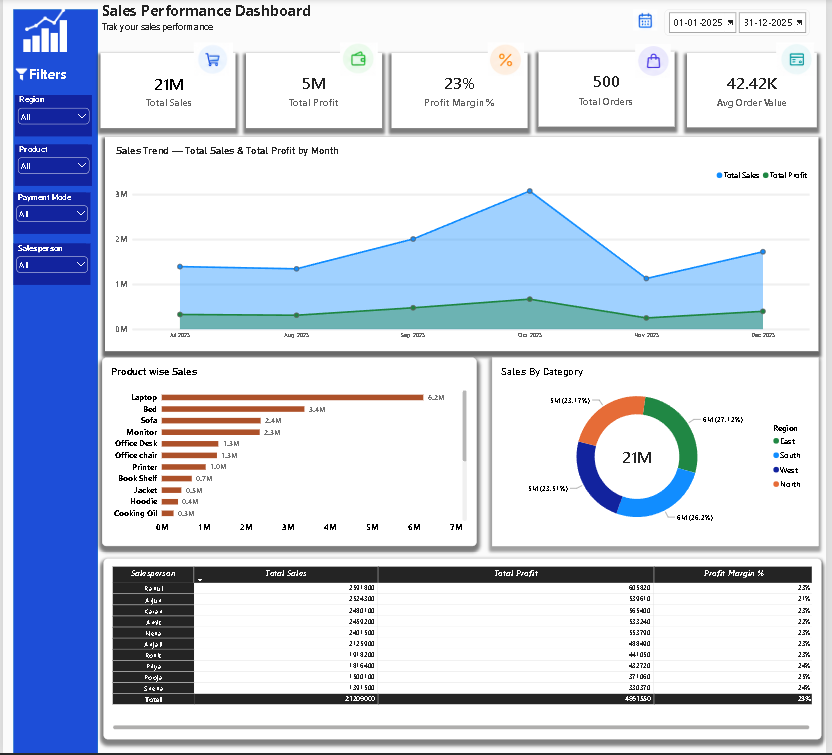

The page's visual inventory and layout, read from the dashboard file:
{"tool":"powerbi","page":{"name":"Dashboard","canvas":[1483,1359],"ordinal":0},"visuals":[{"type":"textbox","box":[179,1.5,741.7,63.3],"z":0},{"type":"shape","box":[20,19.5,152,1470],"z":1000},{"type":"card","fields":{"Values":["_measure.Total Sales"]},"box":[176,98,243.3,135.6],"z":2000},{"type":"card","fields":{"Values":["_measure.Total Profit"]},"box":[438,98,245,135],"z":3000},{"type":"card","fields":{"Values":["_measure.Profit Margin %"]},"box":[700,98,245,135],"z":4000},{"type":"card","fields":{"Values":["_measure.Total Orders"]},"box":[966,94,245,135],"z":5000},{"type":"card","fields":{"Values":["_measure.Avg Order Value"]},"box":[1234,96,234,134],"z":6000},{"type":"image","box":[337.8,77.7,82.5,61.2],"z":7000},{"type":"image","box":[601.5,79,82.5,61.2],"z":8000},{"type":"image","box":[865.2,77.7,82.5,61.2],"z":9000},{"type":"image","box":[1129,80.2,82.5,61.2],"z":10000},{"type":"image","box":[1386.5,77.7,82.5,61.2],"z":11000},{"type":"lineChart","title":"Sales Trend — Total Sales & Total Profit by Month","fields":{"Category":["Date.MonthYear"],"Y":["_measure.Total Sales","_measure.Total Profit"]},"box":[184,248,1286,386],"z":12000},{"type":"donutChart","title":"Sales By Category","fields":{"Category":["Sales_Dashboard.Region"],"Y":["Sum(Sales_Dashboard.Total Sales)"]},"box":[882.3,646.5,588.3,340],"z":13000},{"type":"clusteredBarChart","title":"Product wise Sales","fields":{"Category":["Sales_Dashboard.Product"],"Y":["_measure.Total Sales"]},"box":[179,646.5,675,340],"z":14000},{"type":"pivotTable","fields":{"Rows":["Sales_Dashboard.Salesperson"],"Values":["_measure.Total Sales","_measure.Total Profit","_measure.Profit Margin %"]},"box":[180,1009.5,1294,326],"z":15000},{"type":"slicer","fields":{"Values":["Sales_Dashboard.Region"]},"box":[22,173.5,138.9,74.4],"z":16000},{"type":"slicer","fields":{"Values":["Sales_Dashboard.Product"]},"box":[22,261.5,138.9,74.4],"z":17000},{"type":"slicer","fields":{"Values":["Sales_Dashboard.Payment Mode"]},"box":[20,349.5,138.9,74.4],"z":18000},{"type":"slicer","fields":{"Values":["Sales_Dashboard.Salesperson"]},"box":[20,439.5,138.9,74.4],"z":19000},{"type":"textbox","box":[4,120,155.7,42.9],"z":20000},{"type":"image","box":[21.1,108.6,23,55],"z":21000},{"type":"image","box":[20.7,13.1,108.3,81.7],"z":22000},{"type":"slicer","fields":{"Values":["Date.Date"]},"box":[1193.1,19.7,261,47],"z":23000},{"type":"image","box":[1129.5,19.7,55.6,37.8],"z":24000}]}

Visuals, with their boxes in screenshot pixels (x1, y1, x2, y2), scaled from the page's 1483x1359 canvas onto the 832x755 screenshot:
textbox: {"left": 100, "top": 1, "right": 517, "bottom": 36}
shape: {"left": 11, "top": 11, "right": 96, "bottom": 754}
card - _measure.Total Sales: {"left": 99, "top": 54, "right": 235, "bottom": 130}
card - _measure.Total Profit: {"left": 246, "top": 54, "right": 383, "bottom": 129}
card - _measure.Profit Margin %: {"left": 393, "top": 54, "right": 530, "bottom": 129}
card - _measure.Total Orders: {"left": 542, "top": 52, "right": 679, "bottom": 127}
card - _measure.Avg Order Value: {"left": 692, "top": 53, "right": 824, "bottom": 128}
image: {"left": 190, "top": 43, "right": 236, "bottom": 77}
image: {"left": 337, "top": 44, "right": 384, "bottom": 78}
image: {"left": 485, "top": 43, "right": 532, "bottom": 77}
image: {"left": 633, "top": 45, "right": 680, "bottom": 79}
image: {"left": 778, "top": 43, "right": 824, "bottom": 77}
"Sales Trend — Total Sales & Total Profit by Month" lineChart: {"left": 103, "top": 138, "right": 825, "bottom": 352}
"Sales By Category" donutChart: {"left": 495, "top": 359, "right": 825, "bottom": 548}
"Product wise Sales" clusteredBarChart: {"left": 100, "top": 359, "right": 479, "bottom": 548}
pivotTable - Sales_Dashboard.Salesperson x _measure.Total Sales: {"left": 101, "top": 561, "right": 827, "bottom": 742}
slicer - Sales_Dashboard.Region: {"left": 12, "top": 96, "right": 90, "bottom": 138}
slicer - Sales_Dashboard.Product: {"left": 12, "top": 145, "right": 90, "bottom": 187}
slicer - Sales_Dashboard.Payment Mode: {"left": 11, "top": 194, "right": 89, "bottom": 236}
slicer - Sales_Dashboard.Salesperson: {"left": 11, "top": 244, "right": 89, "bottom": 286}
textbox: {"left": 2, "top": 67, "right": 90, "bottom": 91}
image: {"left": 12, "top": 60, "right": 25, "bottom": 91}
image: {"left": 12, "top": 7, "right": 72, "bottom": 53}
slicer - Date.Date: {"left": 669, "top": 11, "right": 816, "bottom": 37}
image: {"left": 634, "top": 11, "right": 665, "bottom": 32}
